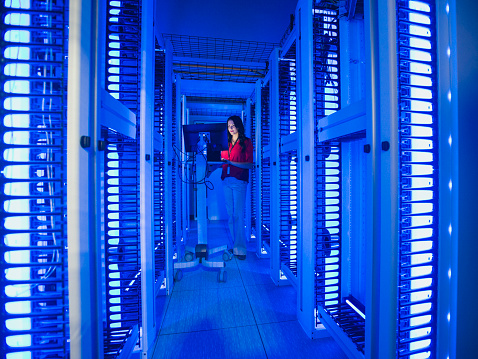em pe: (209, 117, 246, 223)
